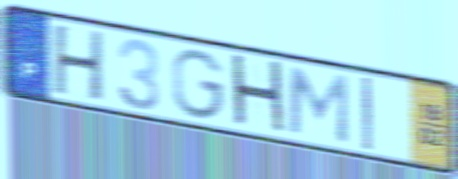3: (116, 37, 162, 111)
G: (169, 47, 228, 123)
H: (228, 50, 289, 140), (51, 22, 108, 105)
I: (359, 74, 375, 154)
M: (286, 64, 351, 147)
